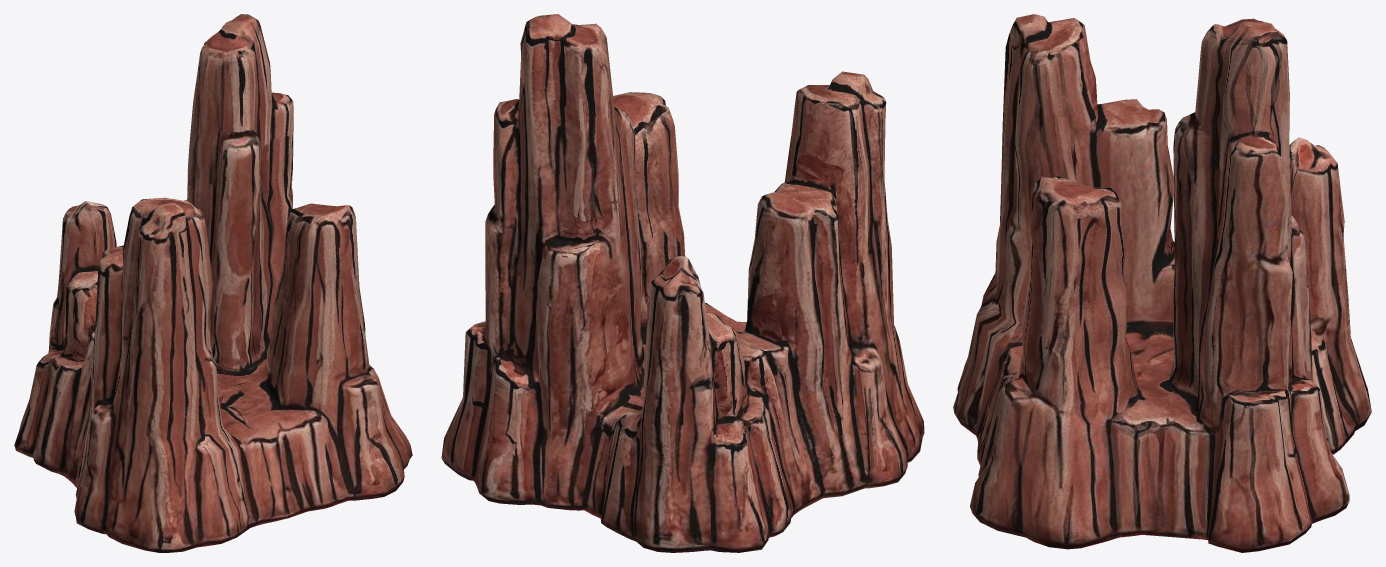
File: montagna.glb
3 renders of one model, left to right at view 1: azimuth 30°, elevation 25°; view 2: azimuth 150°, elevation 25°; view 3: azimuth 270°, elevation 25°, orthographic. The views are drawn at different scales.
Bounding box in the file's own units: 0.8223 × 0.9521 × 0.7583.
Materials: 1 (1 with a texture image).
